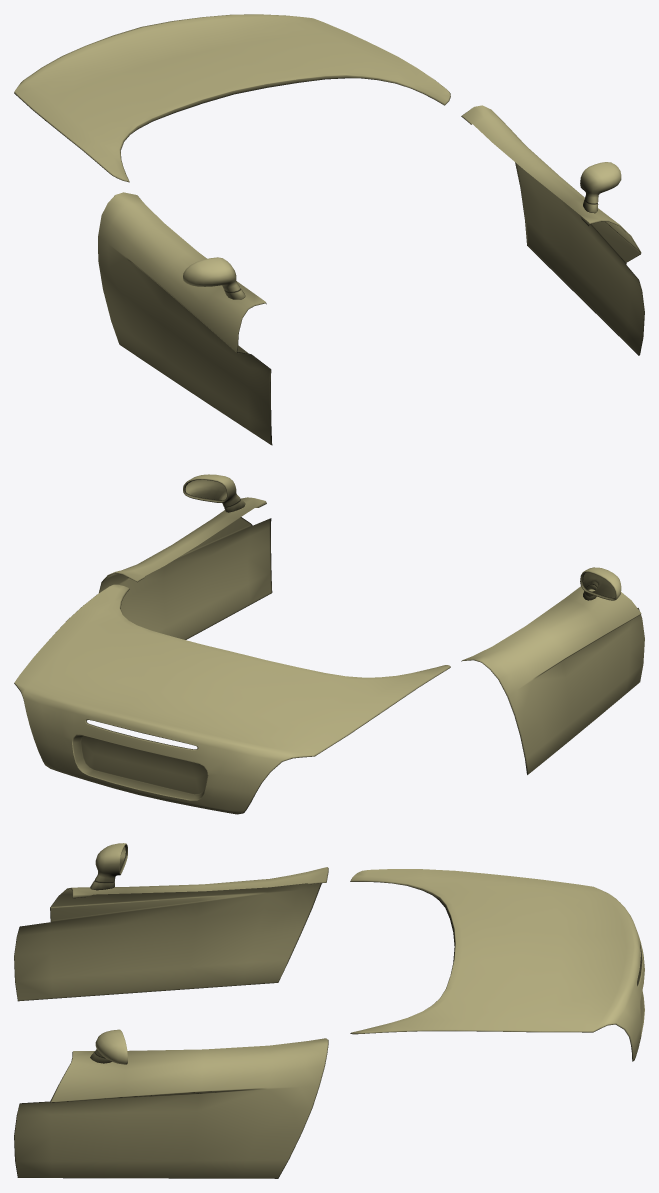
Rendered from Viper_Chassis_Duco.fbx.
3 renders of one model, top to bottom at view 1: azimuth 30°, elevation 25°; view 2: azimuth 150°, elevation 25°; view 3: azimuth 270°, elevation 25°, orthographic.
Parts seen in each view (by area): view 1: Viper_Chassis_Duco; view 2: Viper_Chassis_Duco; view 3: Viper_Chassis_Duco.
Boxes of the visible parts, left/top/right/bottom form: Viper_Chassis_Duco: left=14, top=14, right=644, bottom=445; Viper_Chassis_Duco: left=14, top=474, right=644, bottom=814; Viper_Chassis_Duco: left=14, top=843, right=644, bottom=1178.
Size of the model in its own units: 197 by 65.29 by 251.
